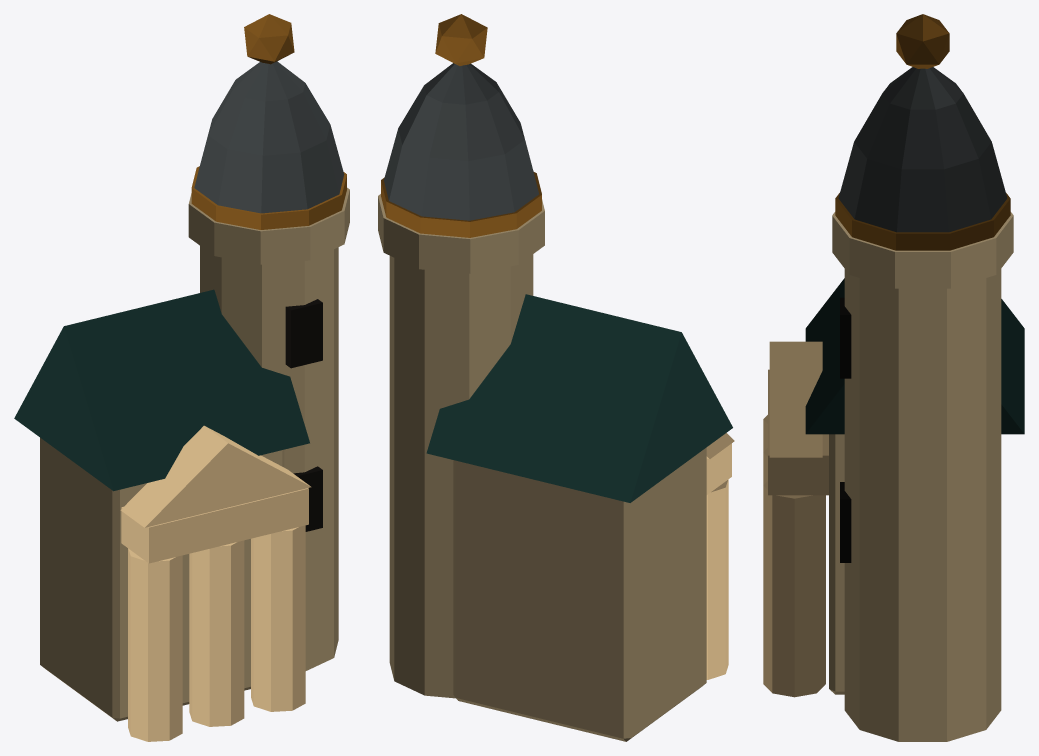
File: library.obj
The picture shows the model from 3 angles, left to right: view 1: azimuth 30°, elevation 25°; view 2: azimuth 150°, elevation 25°; view 3: azimuth 270°, elevation 25°; orthographic projection. The views are drawn at different scales.
Parts seen in each view (by area): view 1: core_stone, core_white, core_roof_hall, core_lead, core_gold, core_window; view 2: core_stone, core_roof_hall, core_lead, core_white, core_gold; view 3: core_stone, core_white, core_lead, core_roof_hall, core_gold, core_window.
Boxes of the visible parts, left/top/right/bottom form: core_stone: left=40, top=187, right=349, bottom=721; core_white: left=120, top=425, right=311, bottom=741; core_roof_hall: left=14, top=289, right=309, bottom=491; core_lead: left=194, top=61, right=344, bottom=213; core_gold: left=191, top=14, right=346, bottom=229; core_window: left=285, top=299, right=322, bottom=531; core_stone: left=378, top=194, right=706, bottom=741; core_roof_hall: left=426, top=294, right=732, bottom=502; core_lead: left=384, top=63, right=538, bottom=220; core_white: left=706, top=433, right=734, bottom=679; core_gold: left=381, top=14, right=541, bottom=237; core_stone: left=829, top=212, right=1013, bottom=741; core_white: left=763, top=341, right=828, bottom=697; core_lead: left=838, top=67, right=1007, bottom=232; core_roof_hall: left=805, top=278, right=1024, bottom=434; core_gold: left=835, top=14, right=1010, bottom=250; core_window: left=840, top=297, right=851, bottom=562.
Size of the model in its own units: 0.2252 by 0.491 by 0.167.
